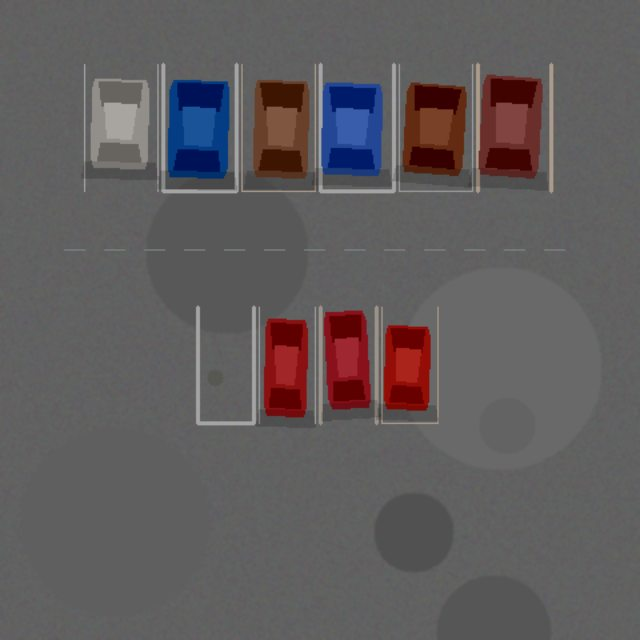space-empty: (197, 307, 253, 423)
space-occupied: (241, 64, 315, 191), (477, 64, 551, 191), (84, 64, 157, 191), (163, 64, 236, 191), (320, 64, 393, 191), (399, 64, 472, 191), (259, 307, 315, 423), (320, 307, 376, 423), (381, 307, 437, 423)
